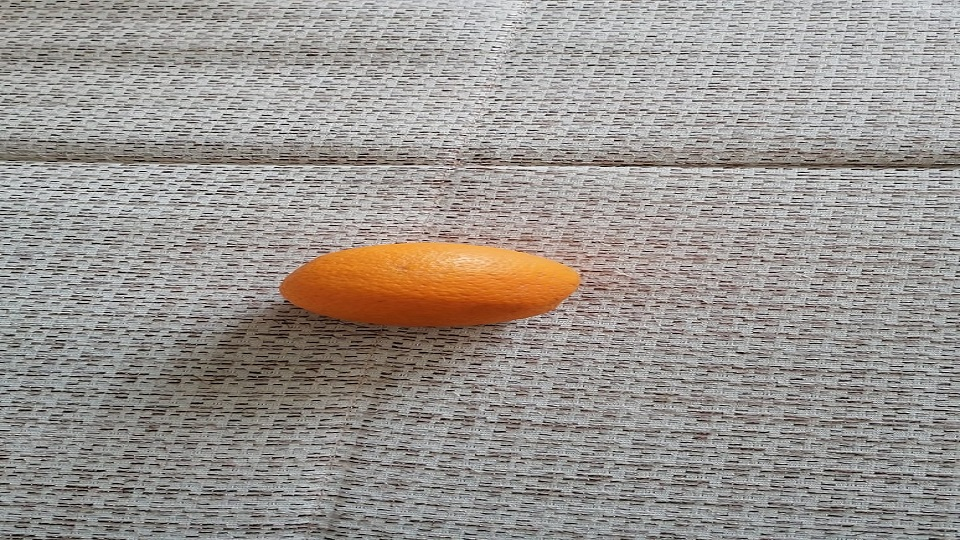portakal: (279, 241, 582, 329)
